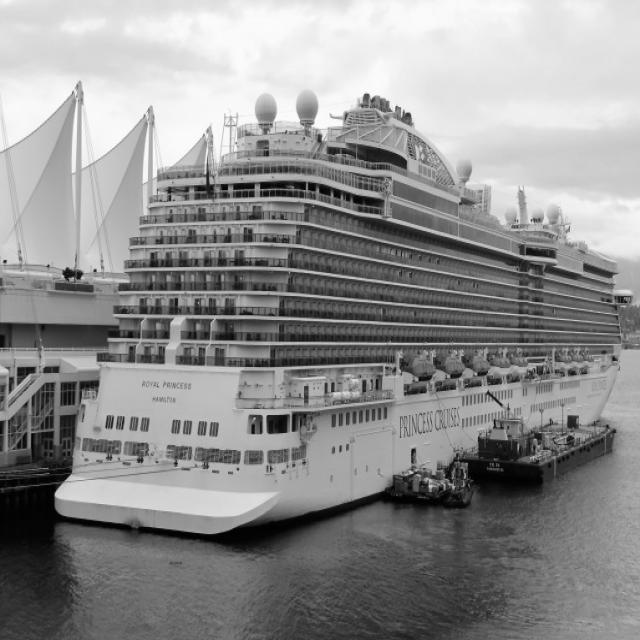cruises: (57, 89, 630, 533)
